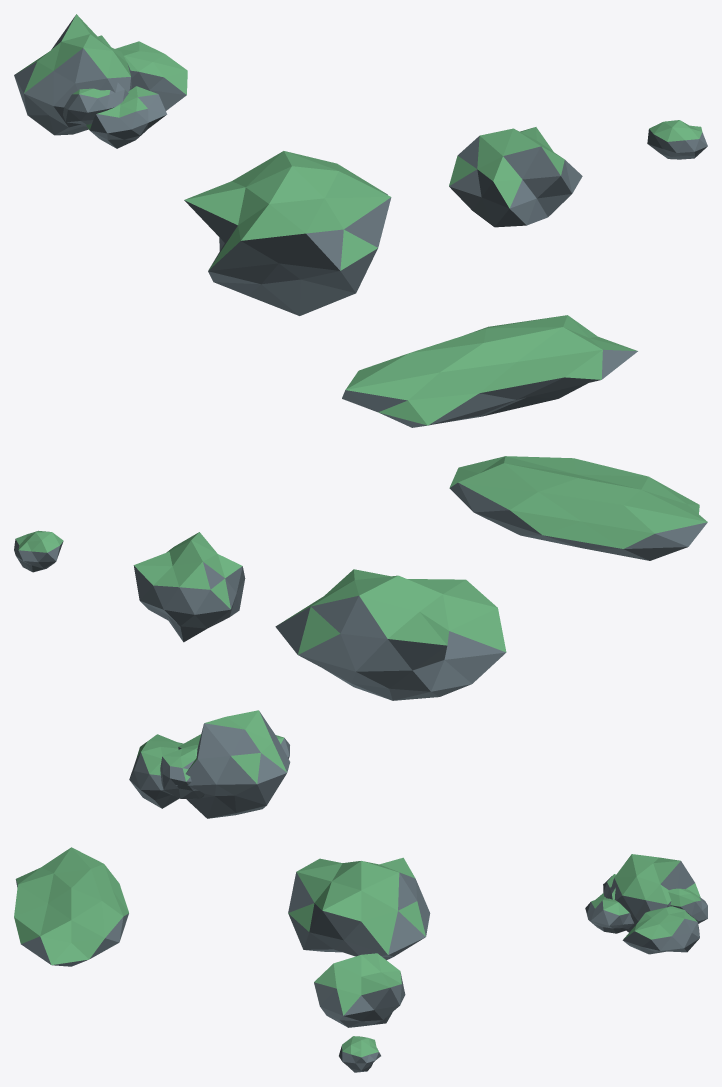
The model's file is prop_faceted_rock.glb.
3 renders of one model, top to bottom at view 1: azimuth 30°, elevation 25°; view 2: azimuth 150°, elevation 25°; view 3: azimuth 270°, elevation 25°, orthographic. The views are drawn at different scales.
Visible parts, largest first — view 1: Rock_Angular_Large, Shelf_Cavern_Ledge, Rock_Angular_Medium, Cluster_Cavern_Boulder_2, Cluster_Cavern_Boulder_4, Cluster_Cavern_Boulder_0, Rock_Angular_Small, Cluster_Cavern_Boulder_3; view 2: Rock_Angular_Large, Shelf_Cavern_Ledge, Cluster_Cavern_Boulder_2, Rock_Angular_Medium, Cluster_Cavern_Boulder_0, Rock_Angular_Small, Cluster_Cavern_Boulder_1; view 3: Rock_Angular_Large, Shelf_Cavern_Ledge, Rock_Angular_Medium, Cluster_Cavern_Boulder_2, Cluster_Cavern_Boulder_0, Cluster_Cavern_Boulder_4, Rock_Angular_Small, Cluster_Cavern_Boulder_1.
Part boxes in pixels (x1,y1,x2,y2): Rock_Angular_Large: (184,151,391,315); Shelf_Cavern_Ledge: (342,315,637,427); Rock_Angular_Medium: (449,127,582,227); Cluster_Cavern_Boulder_2: (14,14,131,135); Cluster_Cavern_Boulder_4: (86,86,167,148); Cluster_Cavern_Boulder_0: (115,41,187,110); Rock_Angular_Small: (647,120,707,159); Cluster_Cavern_Boulder_3: (63,82,128,124); Rock_Angular_Large: (275,569,506,700); Shelf_Cavern_Ledge: (449,456,707,560); Cluster_Cavern_Boulder_2: (175,710,290,818); Rock_Angular_Medium: (133,532,245,642); Cluster_Cavern_Boulder_0: (129,734,183,808); Rock_Angular_Small: (14,530,63,572); Cluster_Cavern_Boulder_1: (160,745,204,798); Rock_Angular_Large: (288,857,430,960); Shelf_Cavern_Ledge: (14,847,128,966); Rock_Angular_Medium: (314,953,405,1027); Cluster_Cavern_Boulder_2: (611,854,700,932); Cluster_Cavern_Boulder_0: (622,906,699,954); Cluster_Cavern_Boulder_4: (585,893,633,933); Rock_Angular_Small: (339,1036,380,1072); Cluster_Cavern_Boulder_1: (668,888,707,923).
Size of the model in its own units: 9.89 by 2.22 by 14.37.
